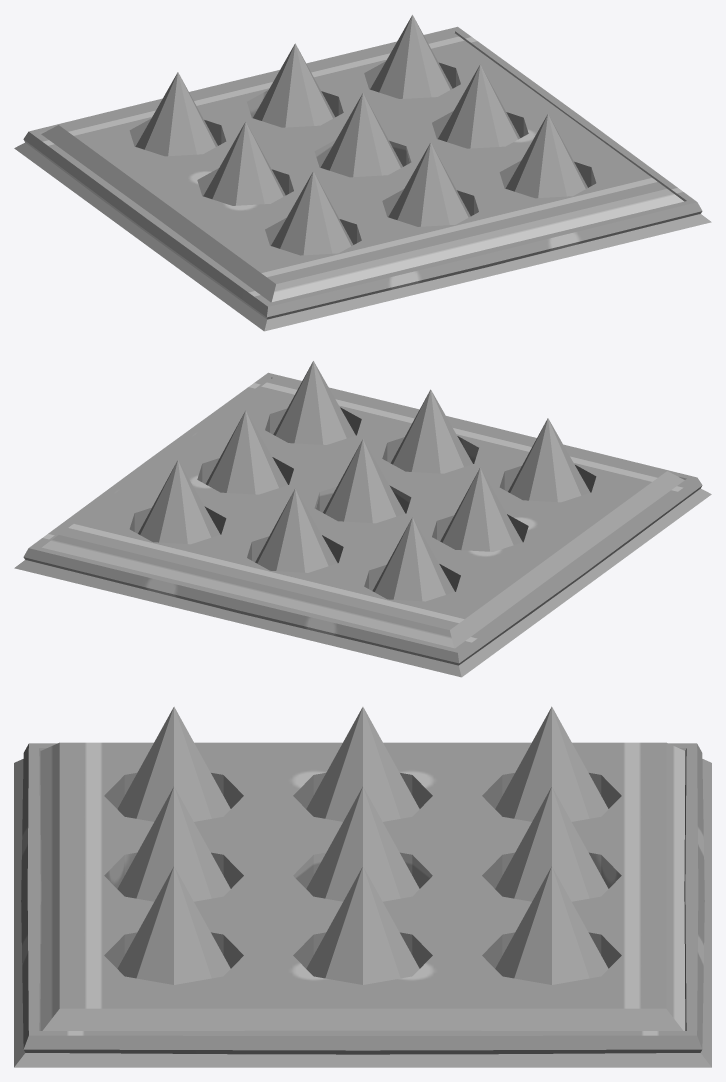
File: Spikes_1m.fbx
3 renders of one model, top to bottom at view 1: azimuth 30°, elevation 25°; view 2: azimuth 150°, elevation 25°; view 3: azimuth 270°, elevation 25°, orthographic. The views are drawn at different scales.
Visible parts, largest first — view 1: Spikes_1m; view 2: Spikes_1m; view 3: Spikes_1m.
Part boxes in pixels (x1,y1,x2,y2): Spikes_1m: (14,15,711,331); Spikes_1m: (14,361,711,677); Spikes_1m: (14,706,711,1067).
Bounding box in the file's own units: 113 × 22.41 × 110.
